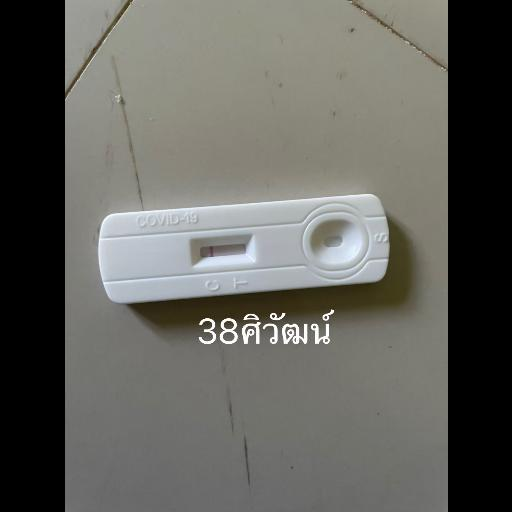Neg: (94, 193, 394, 306)
